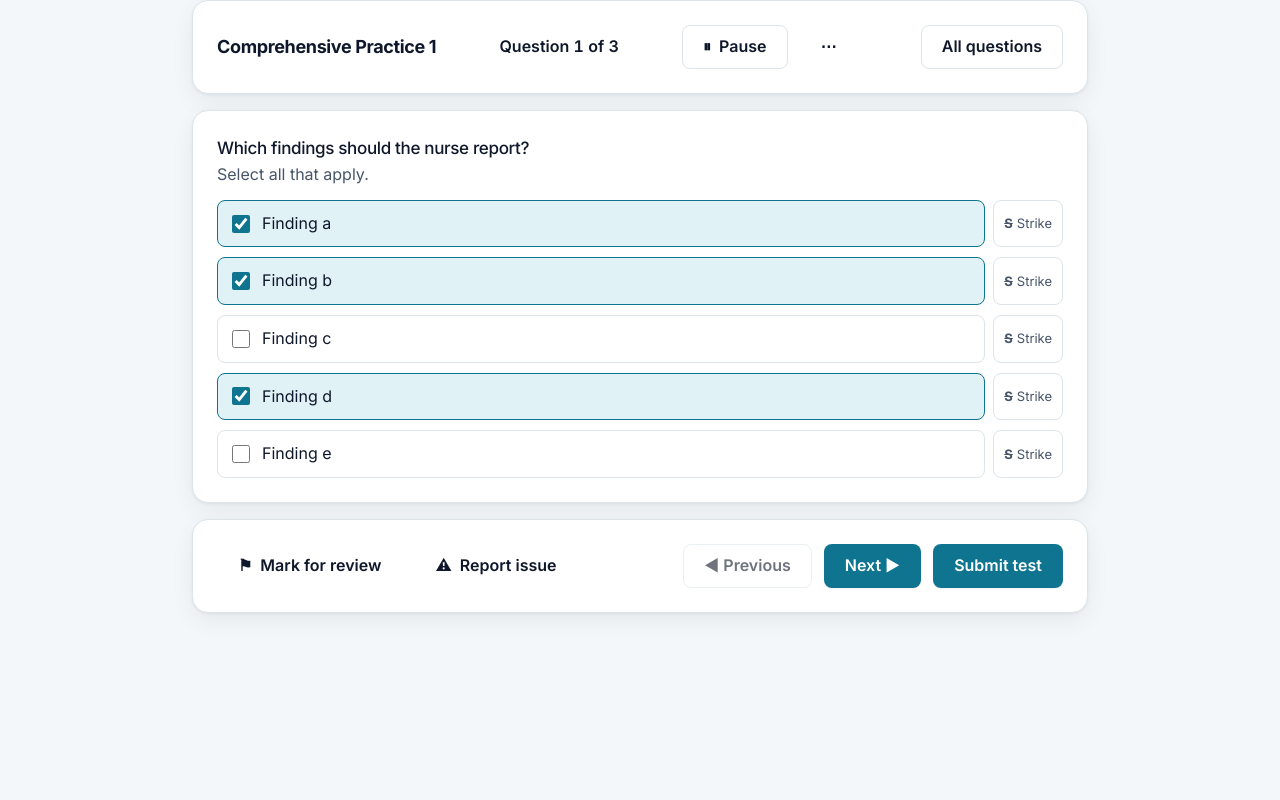
Scenario: AttemptPlayer submitting › says so when the submit fails and stays on the test
Expected: the heading "Which findings should the nurse report?" is shown, [217,138,529,158]
Click the button "Submit test": {"x": 998, "y": 566} [933,544,1063,588]
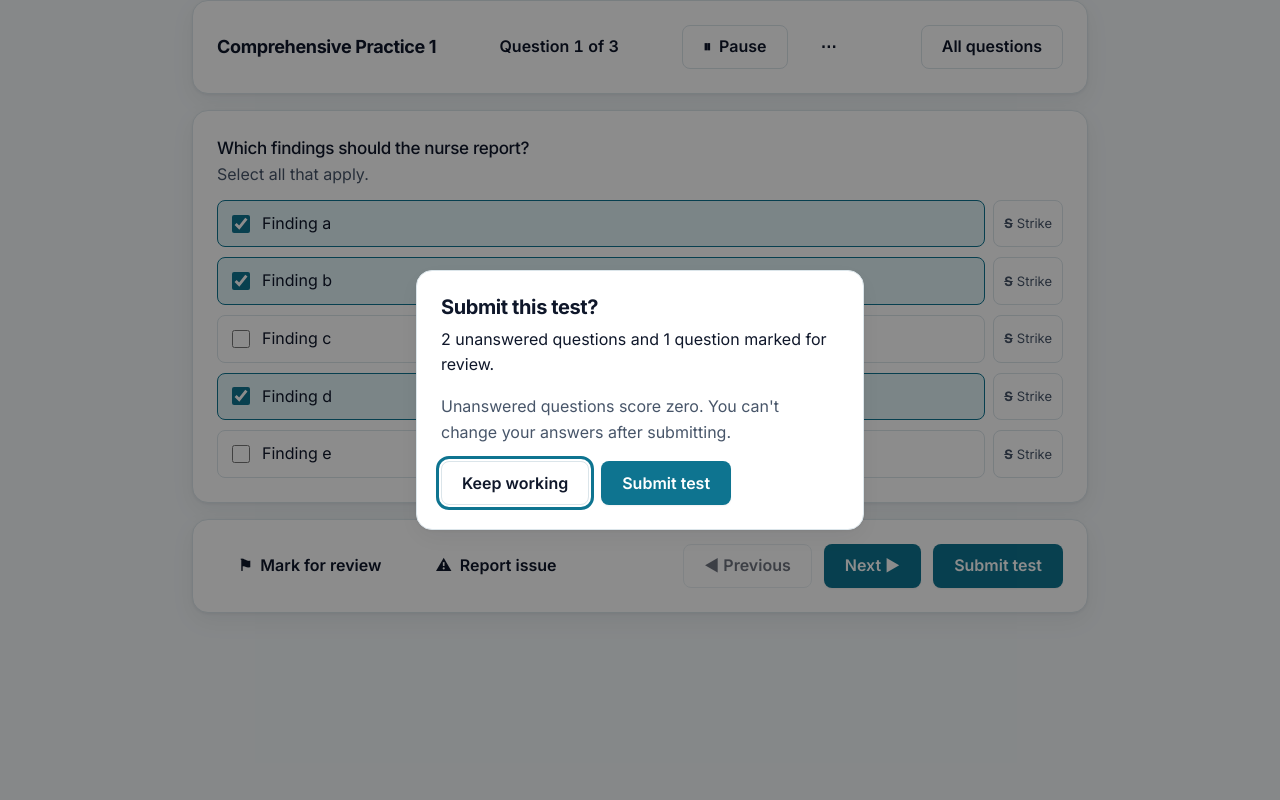
Click the button "Submit test": {"x": 666, "y": 483} [601,461,731,505]
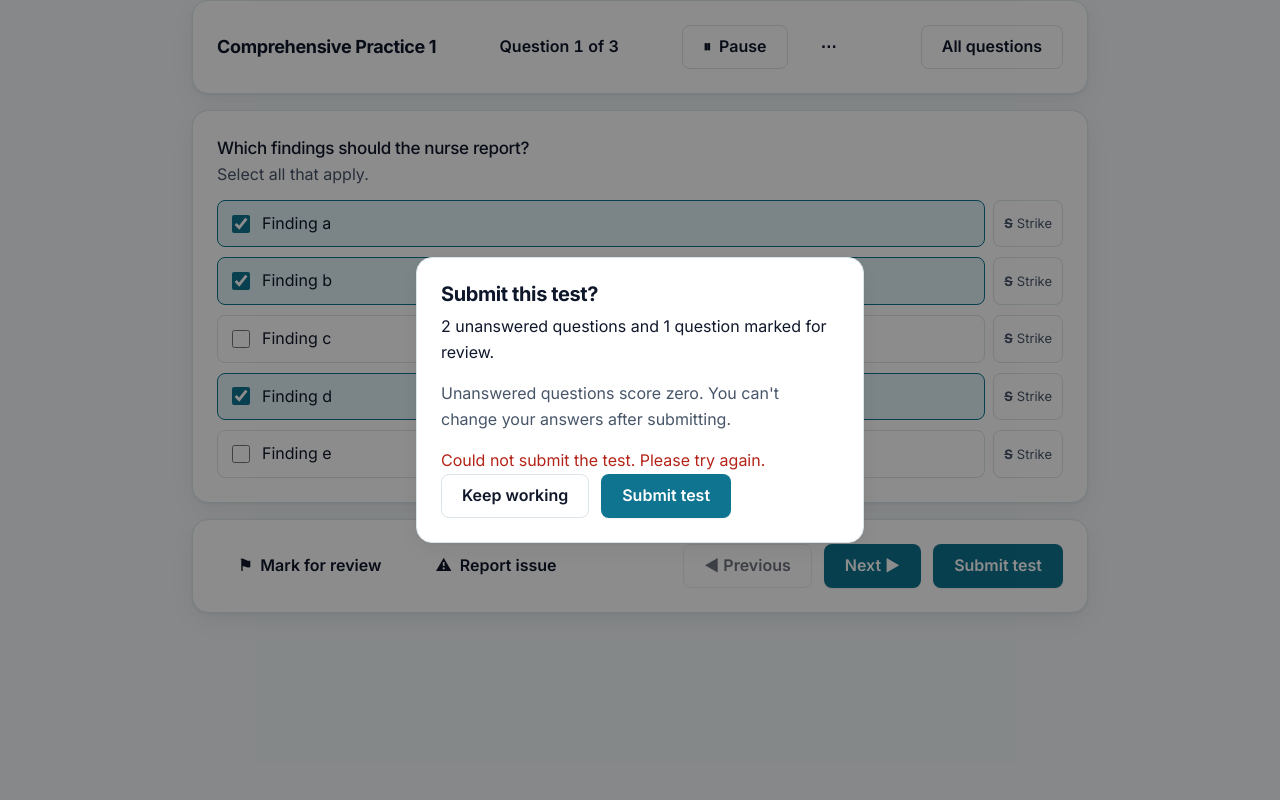
Expected: the message shows "Could not submit the test", [441,450,765,470]
